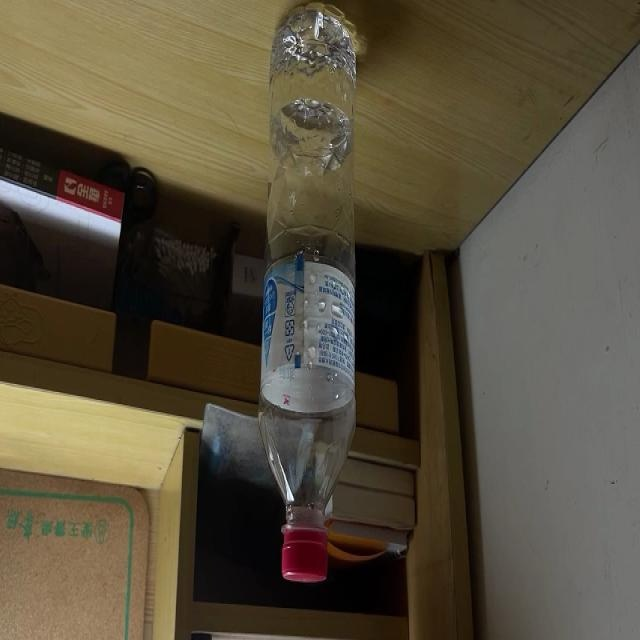Water: (263, 1, 353, 584)
